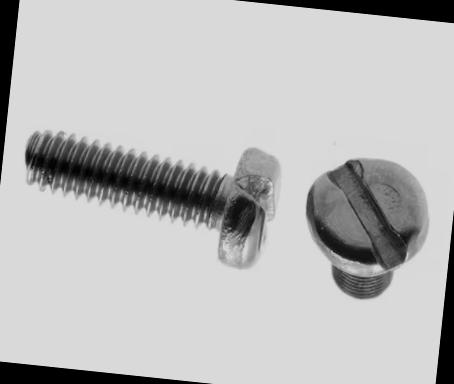slotted: (296, 146, 437, 282)
